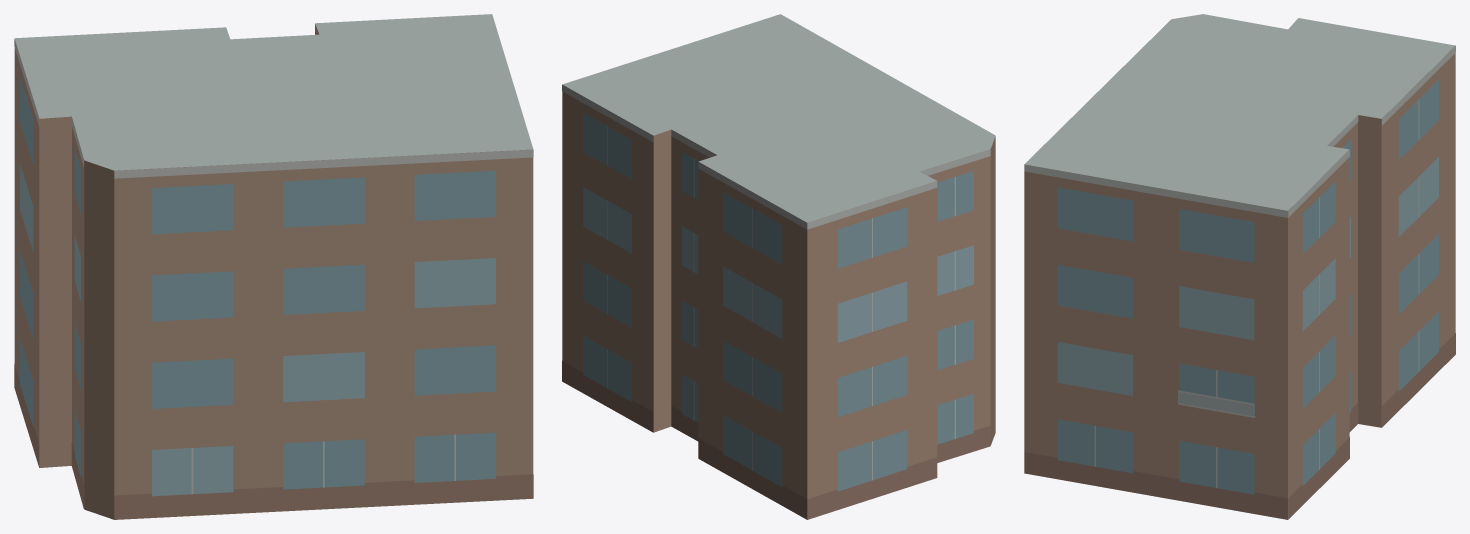
Rendered from survey-upis-32748228.glb.
3 views of the same model, side by side, from view 1: azimuth 30°, elevation 25°; view 2: azimuth 150°, elevation 25°; view 3: azimuth 270°, elevation 25° (orthographic). The views are drawn at different scales.
Parts seen in each view (by area): view 1: survey-upis-32748228.tmp; view 2: survey-upis-32748228.tmp; view 3: survey-upis-32748228.tmp.
Part boxes in pixels (x1,y1,x2,y2): survey-upis-32748228.tmp: (14,14,533,519); survey-upis-32748228.tmp: (562,14,995,519); survey-upis-32748228.tmp: (1024,14,1455,519).
Bounding box in the file's own units: 14.52 × 10.62 × 13.45.
